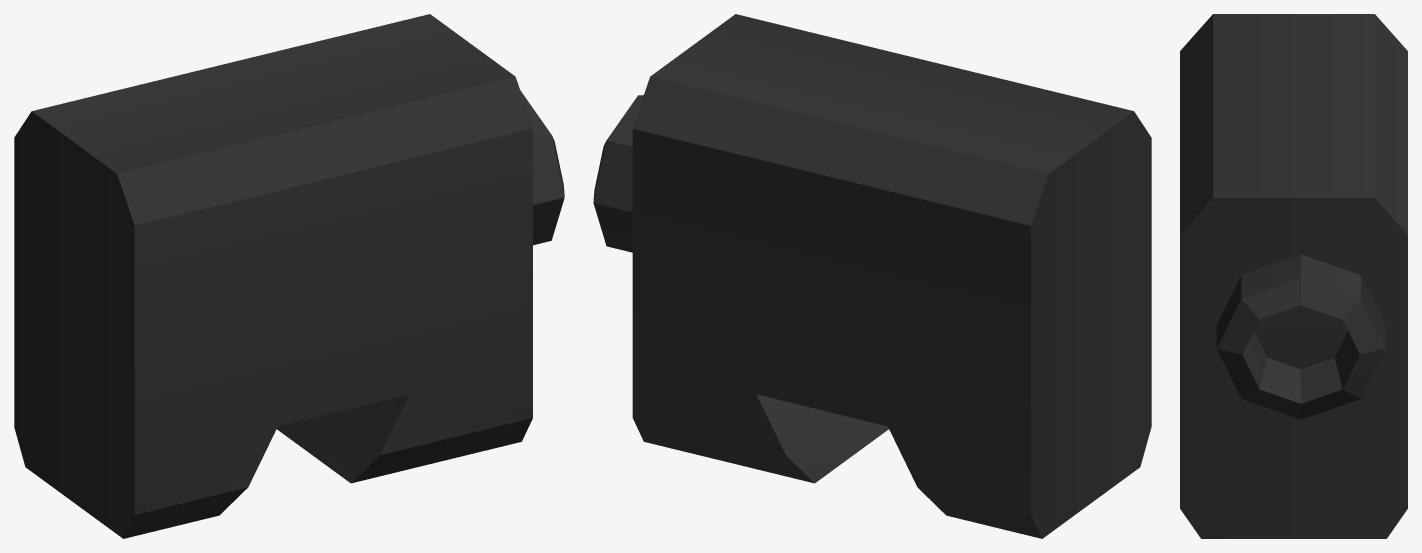
Rendered from SMG_Silencer_mesh.fbx.
3 renders of one model, left to right at view 1: azimuth 30°, elevation 25°; view 2: azimuth 150°, elevation 25°; view 3: azimuth 270°, elevation 25°, orthographic. The views are drawn at different scales.
Parts seen in each view (by area): view 1: SMG_Silencer_mesh; view 2: SMG_Silencer_mesh; view 3: SMG_Silencer_mesh.
Part boxes in pixels (box(x1,y1,x2,y2)): SMG_Silencer_mesh: box(14, 14, 564, 538); SMG_Silencer_mesh: box(593, 14, 1151, 538); SMG_Silencer_mesh: box(1180, 14, 1407, 538).
Size of the model in its own units: 8.46 by 6.31 by 3.82.
1 material, 1 textured.
